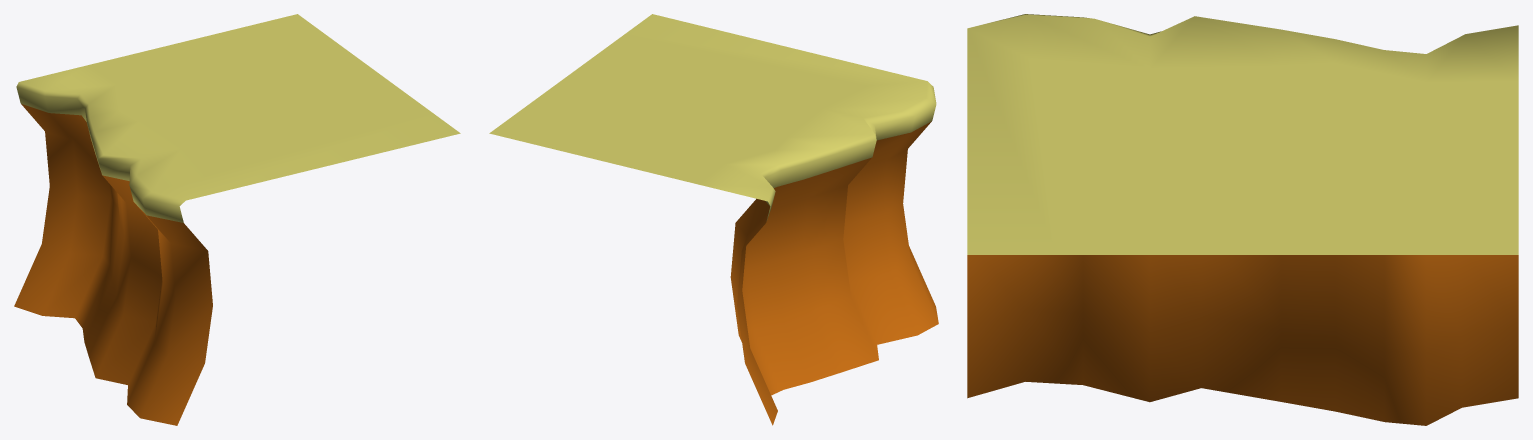
The model's file is ground_08.fbx.
3 renders of one model, left to right at view 1: azimuth 30°, elevation 25°; view 2: azimuth 150°, elevation 25°; view 3: azimuth 270°, elevation 25°, orthographic. The views are drawn at different scales.
Parts seen in each view (by area): view 1: floor_tille.002; view 2: floor_tille.002; view 3: floor_tille.002.
Part boxes in pixels (x1,y1,x2,y2): floor_tille.002: [14, 14, 460, 425]; floor_tille.002: [489, 14, 938, 425]; floor_tille.002: [967, 14, 1518, 425].
Size of the model in its own units: 1307 by 918 by 1217.
